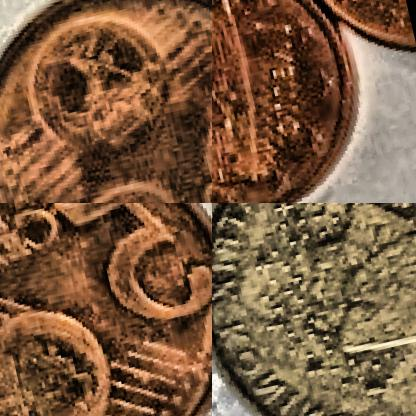coin: (212, 203, 415, 415), (0, 0, 211, 202), (212, 0, 384, 202)
